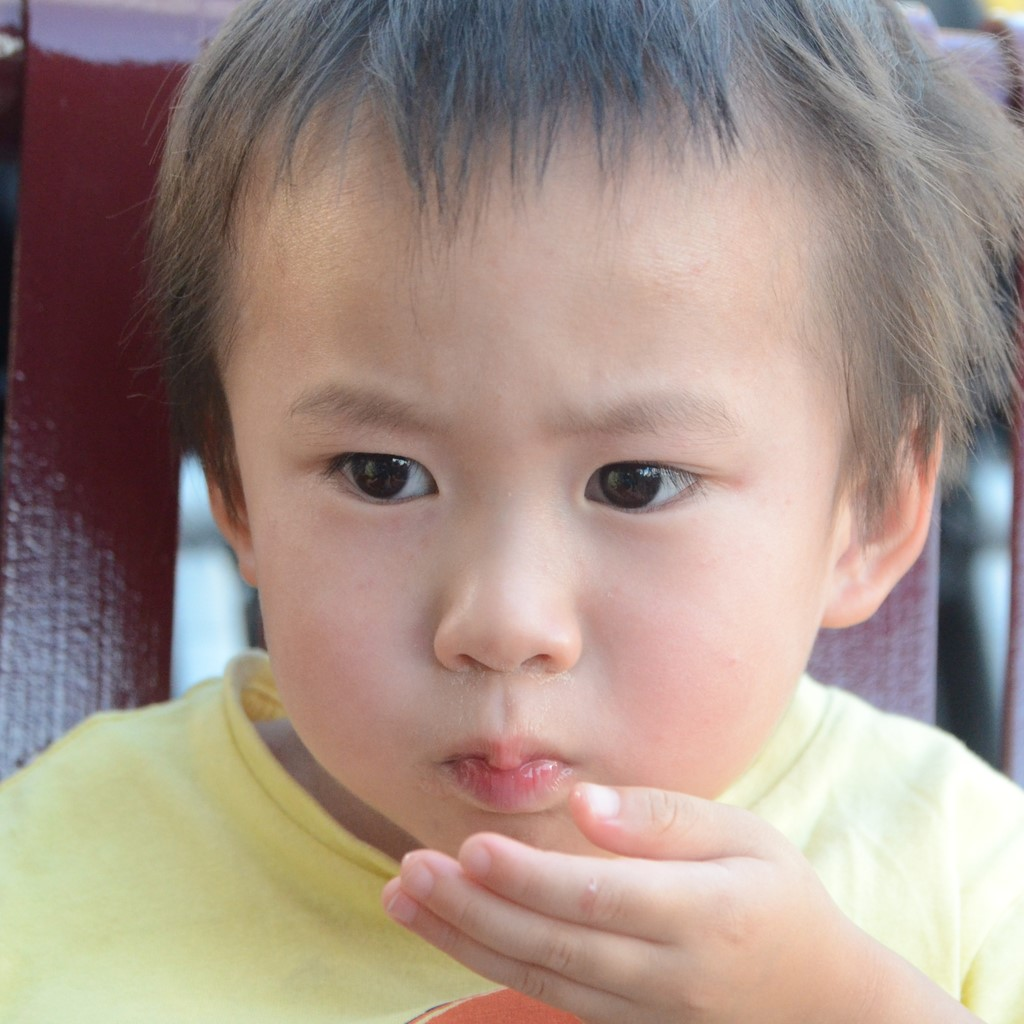sin_mascara: (179, 77, 894, 856)
